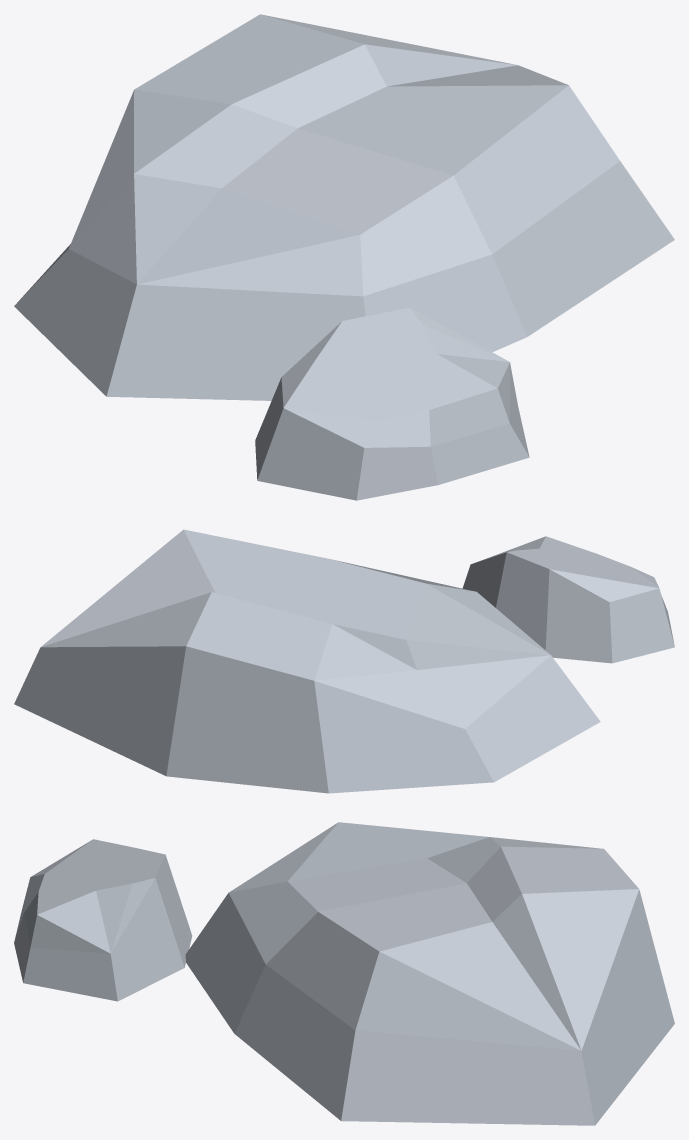
The model's file is model_polytope_rock_small02.fbx.
3 renders of one model, top to bottom at view 1: azimuth 30°, elevation 25°; view 2: azimuth 150°, elevation 25°; view 3: azimuth 270°, elevation 25°, orthographic. The views are drawn at different scales.
Visible parts, largest first — view 1: model_polytope_rock_small02; view 2: model_polytope_rock_small02; view 3: model_polytope_rock_small02.
Part boxes in pixels (left/top/right/bottom): model_polytope_rock_small02: left=14, top=14, right=674, bottom=500; model_polytope_rock_small02: left=14, top=529, right=674, bottom=793; model_polytope_rock_small02: left=14, top=822, right=674, bottom=1125.
Bounding box in the file's own units: 242 × 64.82 × 272.
